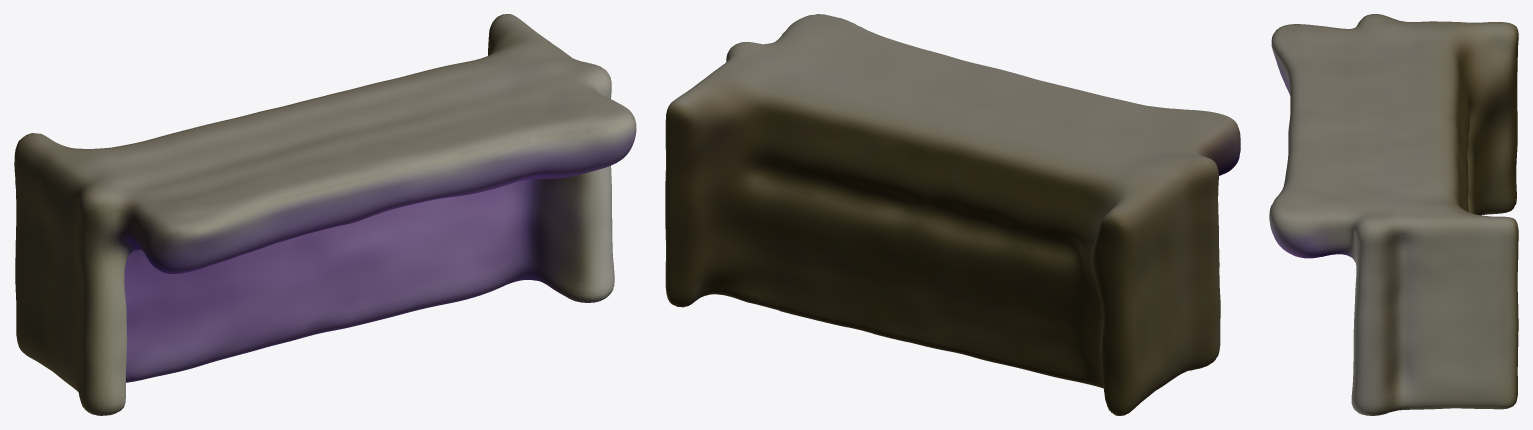
File: sofa.glb
3 views of the same model, side by side, from view 1: azimuth 30°, elevation 25°; view 2: azimuth 150°, elevation 25°; view 3: azimuth 270°, elevation 25° (orthographic). The views are drawn at different scales.
Bounding box in the file's own units: 0.9995 × 0.4209 × 0.4776.
